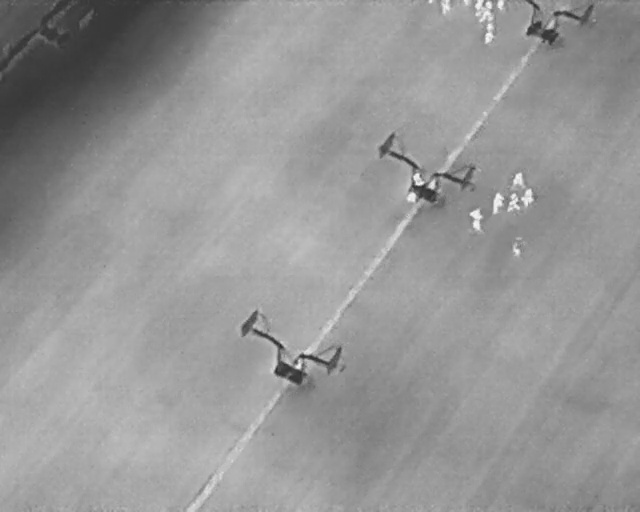Person: (517, 185, 538, 211), (504, 191, 522, 215), (468, 206, 484, 232), (491, 191, 506, 217), (475, 5, 494, 22), (410, 170, 426, 188), (439, 0, 452, 16), (513, 170, 525, 187), (484, 23, 494, 43), (512, 237, 522, 256), (404, 191, 417, 203), (474, 0, 483, 11), (496, 0, 506, 9), (485, 0, 495, 9)
